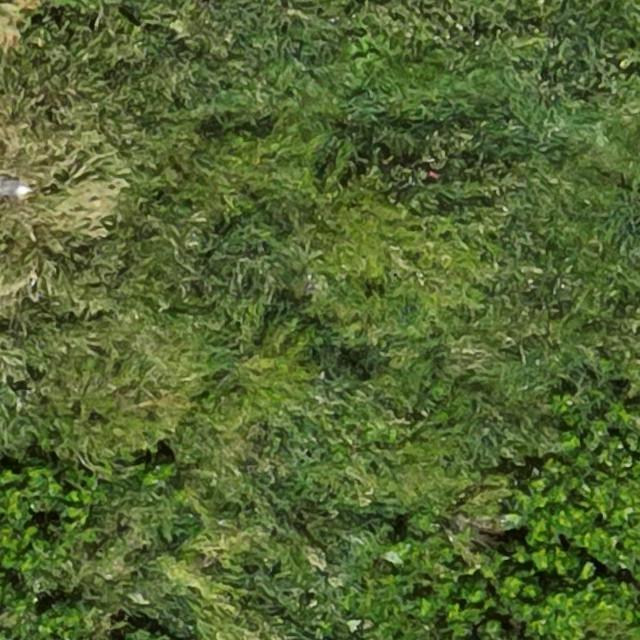umineko: (0, 180, 30, 198)
